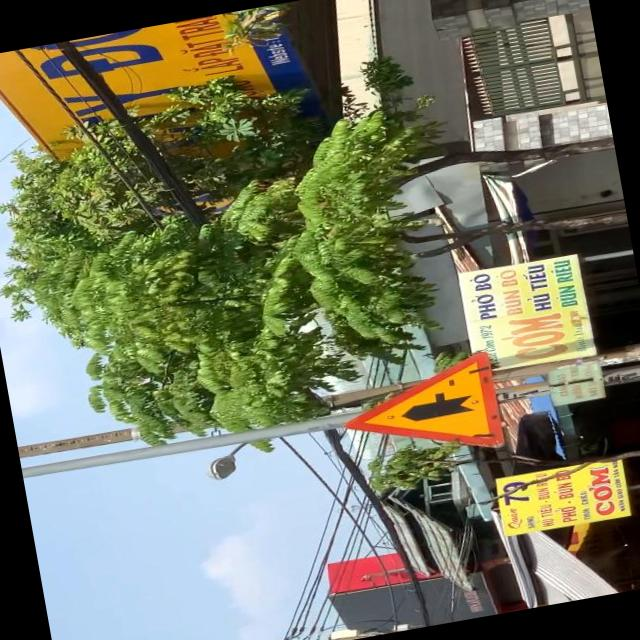W-207b: (335, 346, 506, 474)
